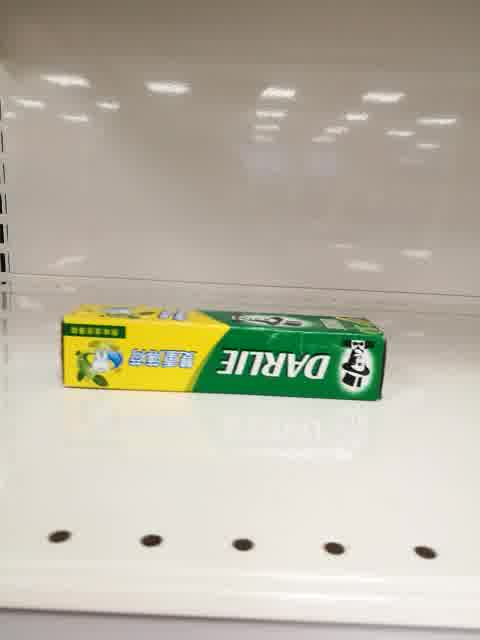toothpaste: (60, 303, 389, 400)
